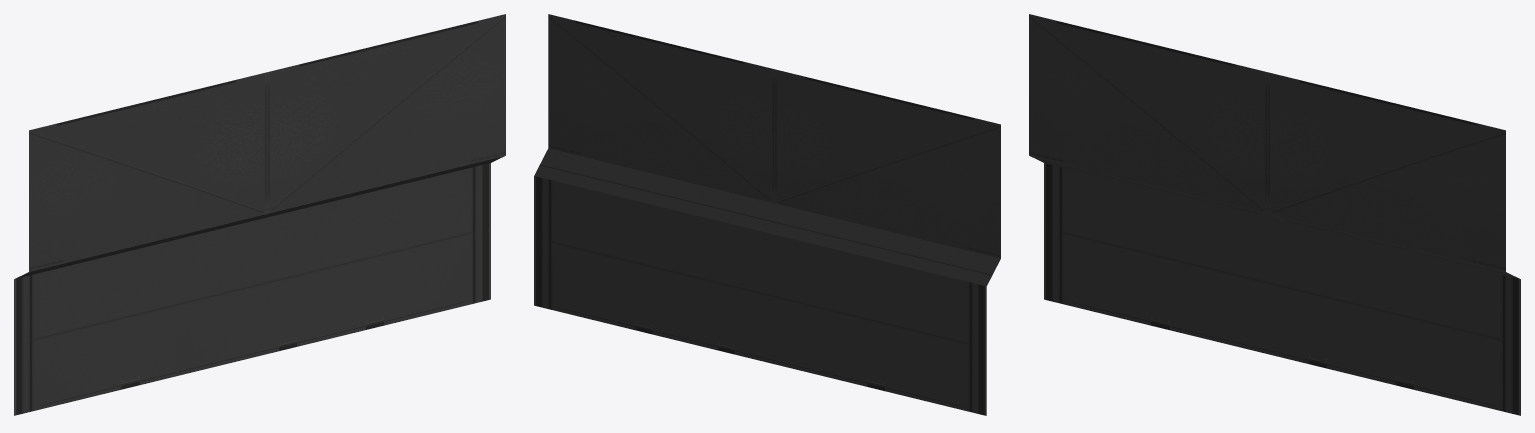
File: Wall1°Room.fbx
3 views of the same model, side by side, from view 1: azimuth 30°, elevation 25°; view 2: azimuth 150°, elevation 25°; view 3: azimuth 330°, elevation 25° (orthographic). The views are drawn at different scales.
Parts seen in each view (by area): view 1: Wall1°Room; view 2: Wall1°Room; view 3: Wall1°Room.
Part boxes in pixels (x1,y1,x2,y2): Wall1°Room: (14, 14, 505, 415); Wall1°Room: (534, 14, 1000, 415); Wall1°Room: (1029, 14, 1520, 415).
Size of the model in its own units: 800 by 480 by 43.14.
